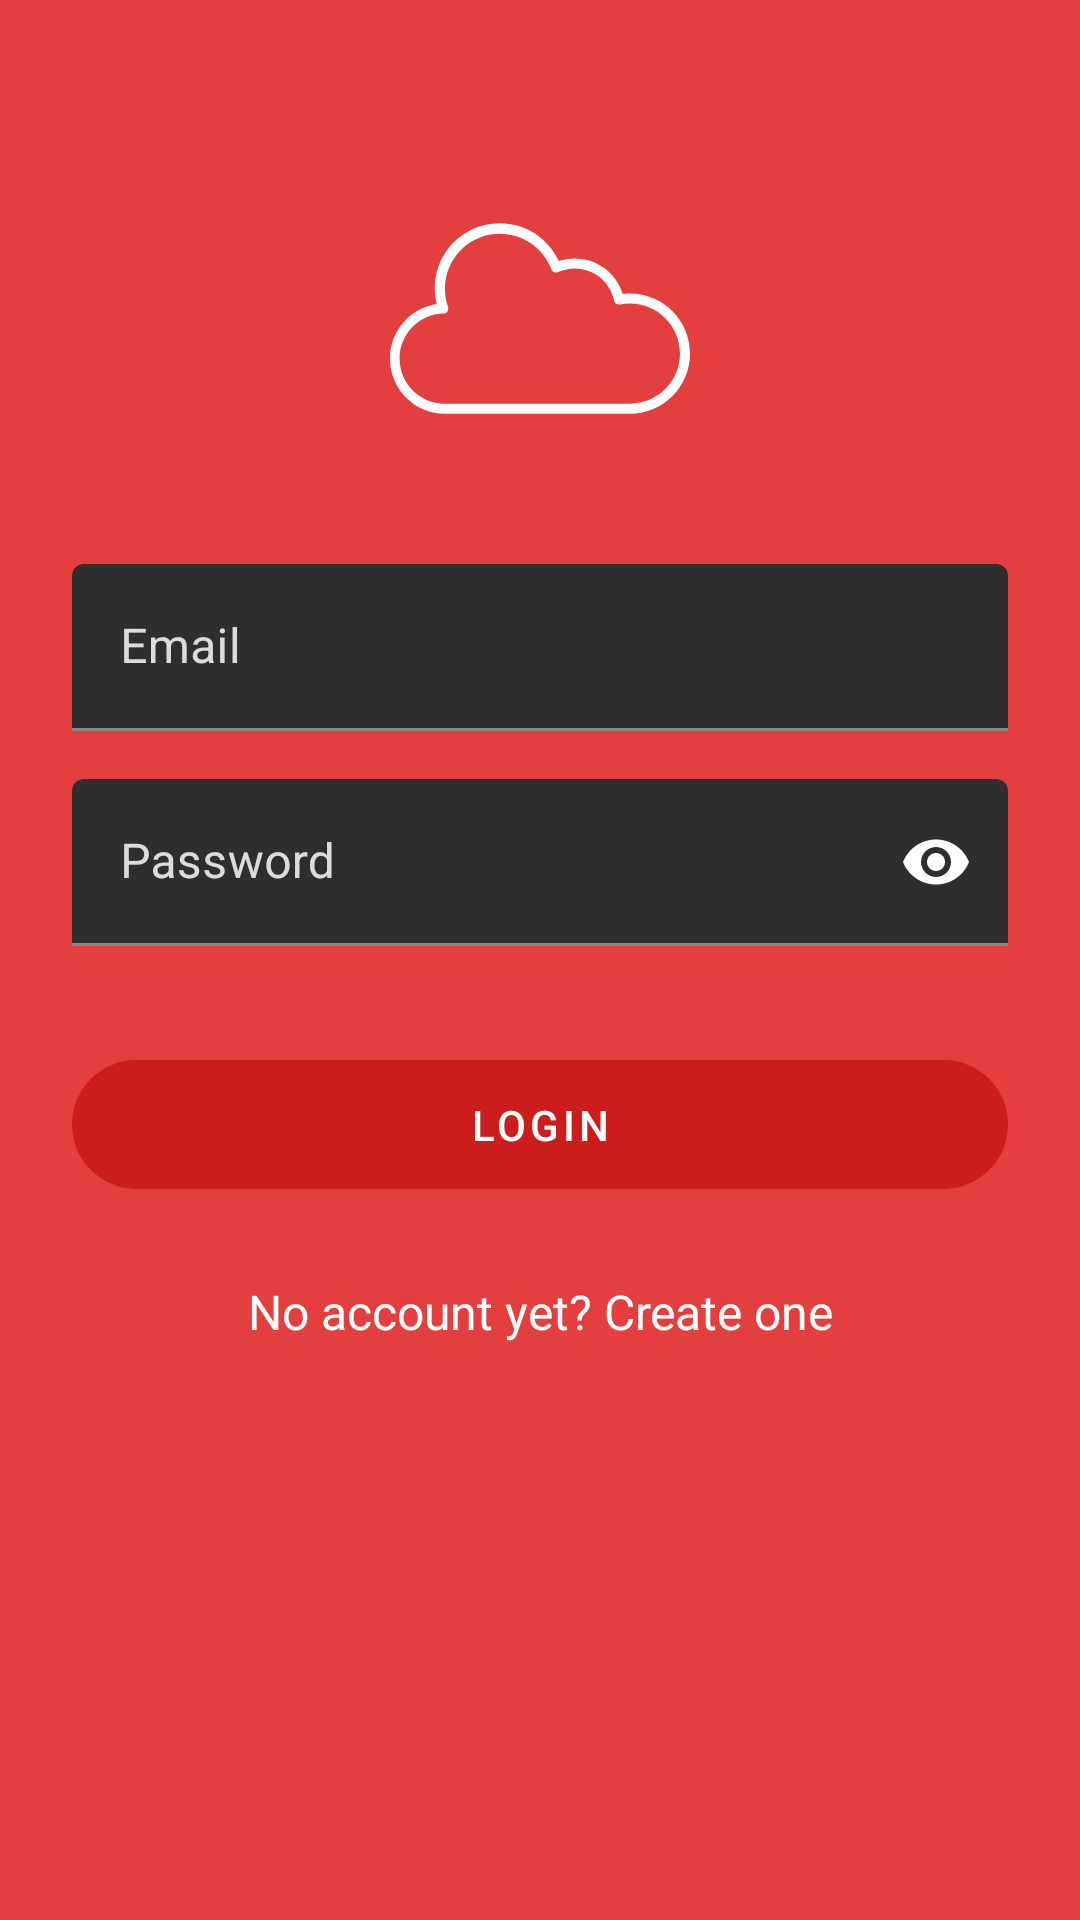

Icon click points for this 1080 × 1920 phone screenshot, format (x,y):
cloud: (540,318)
